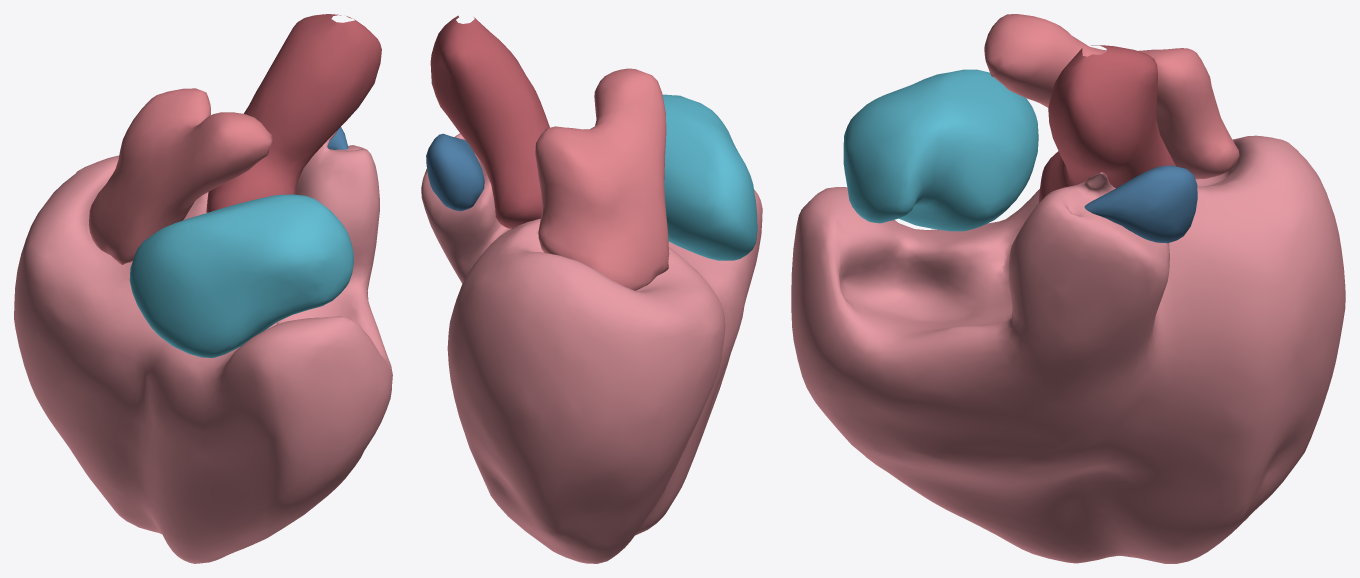
The model's file is frame_4.glb.
3 views of the same model, side by side, from view 1: azimuth 30°, elevation 25°; view 2: azimuth 150°, elevation 25°; view 3: azimuth 270°, elevation 25° (orthographic). The views are drawn at different scales.
Visible parts, largest first — view 1: Renderer Node; view 2: Renderer Node; view 3: Renderer Node.
Part boxes in pixels (x1,y1,x2,y2): Renderer Node: (14,14,392,563); Renderer Node: (421,15,762,563); Renderer Node: (791,14,1345,563).
Bounding box in the file's own units: 107 × 164 × 136.
